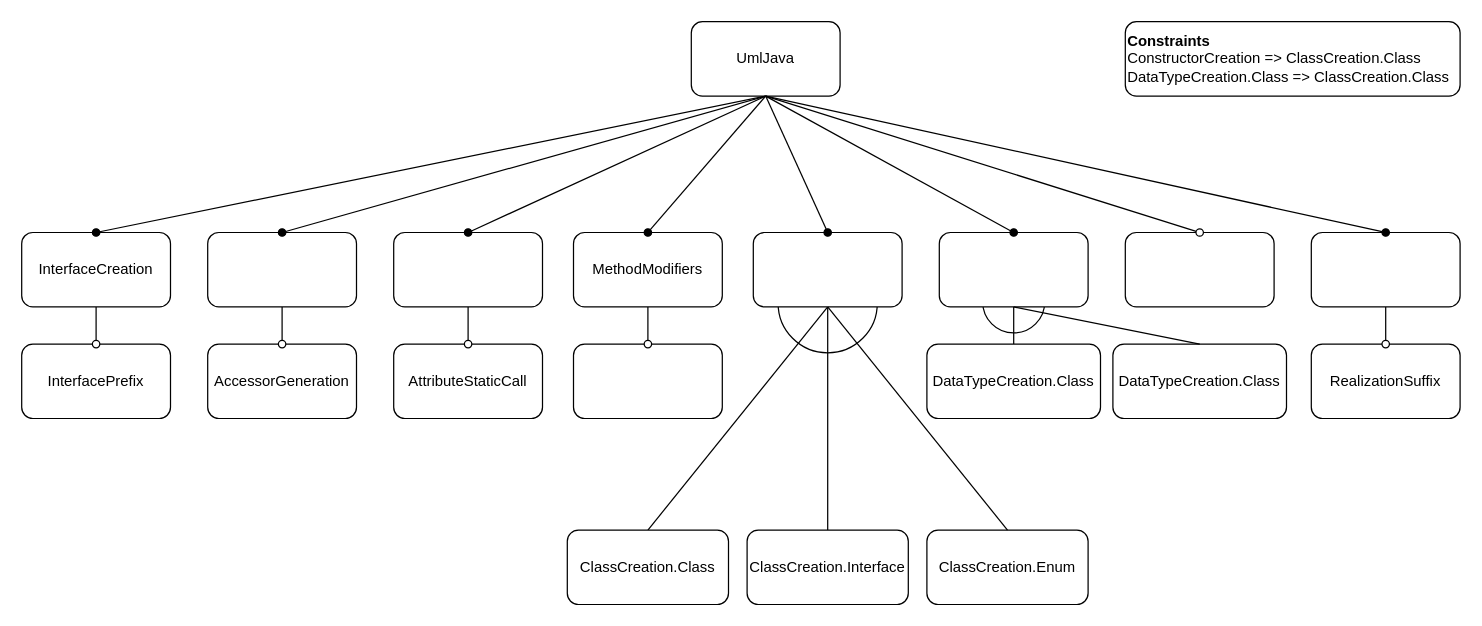
Image size: 1482x626. Some labels were removed from this diagram. The shapes that lost their labels are listed below. From the top down, each one's centre as x and y in pixels, then its label:
At (x=281, y=269): "AttributeCreation".
At (x=467, y=269): "AttributeModifiers".
At (x=827, y=269): "ClassCreation".
At (x=1013, y=269): "DataTypeCreation".
At (x=1199, y=269): "ConstructorCreation".
At (x=1385, y=269): "InterfaceRealization".
At (x=647, y=380): "MethodStaticCall".
